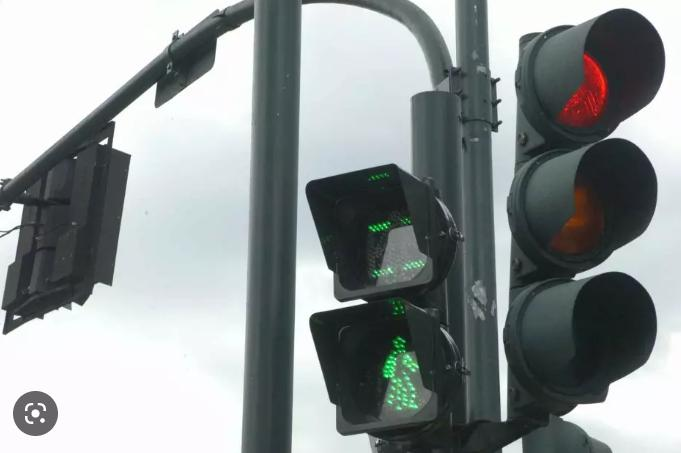red_light: (503, 8, 665, 404)
